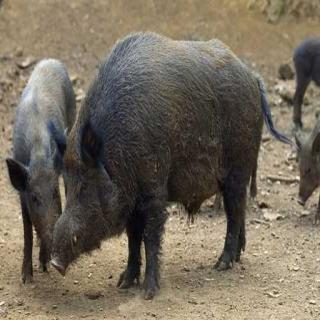Pig: (46, 34, 283, 291), (0, 46, 78, 274)
